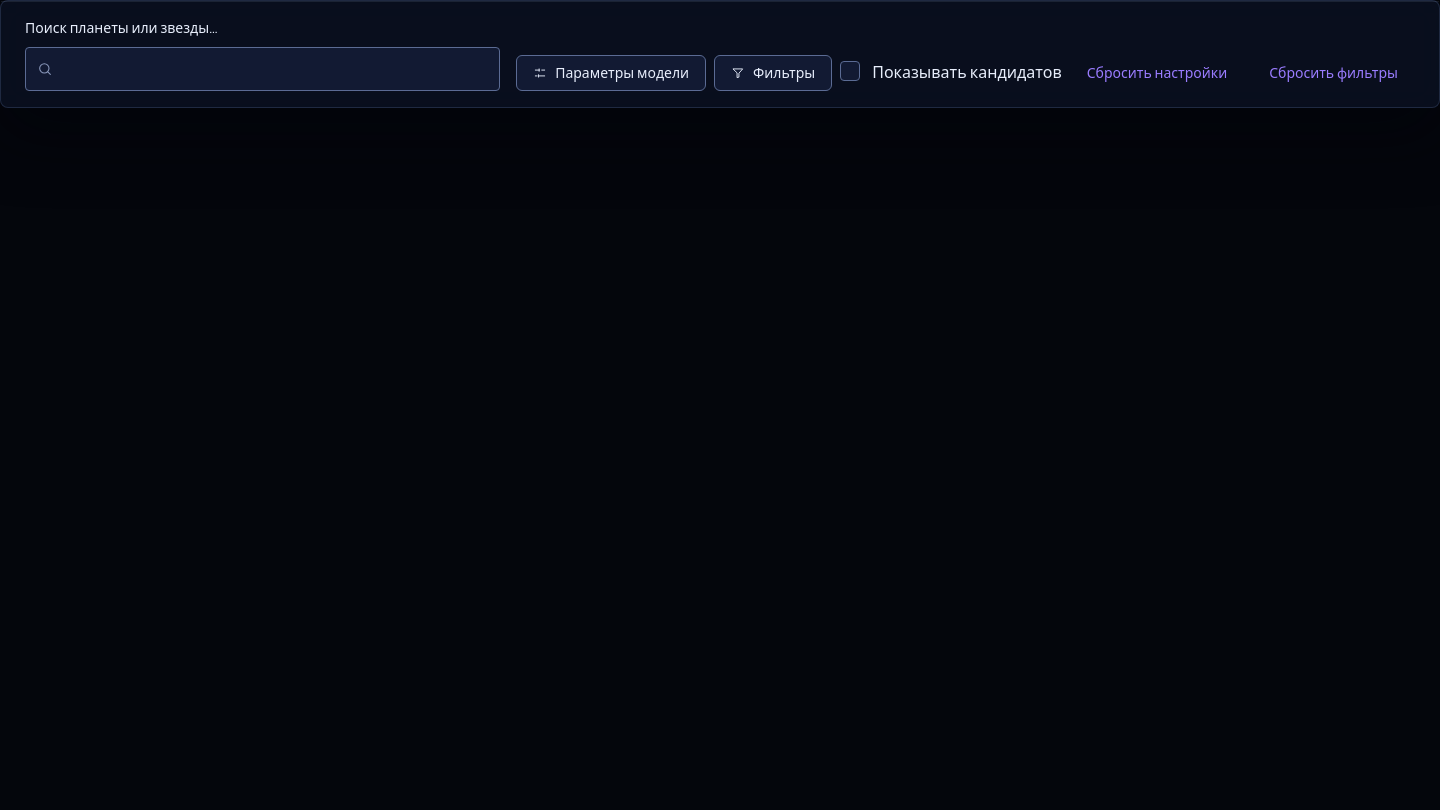
Test case: спектральные классы › выбор классов применяется вместе с диапазонами одним пересчётом
Later steps or results of the test are not shown.
Click the button "Фильтры": (773, 73) [714,55,832,91]
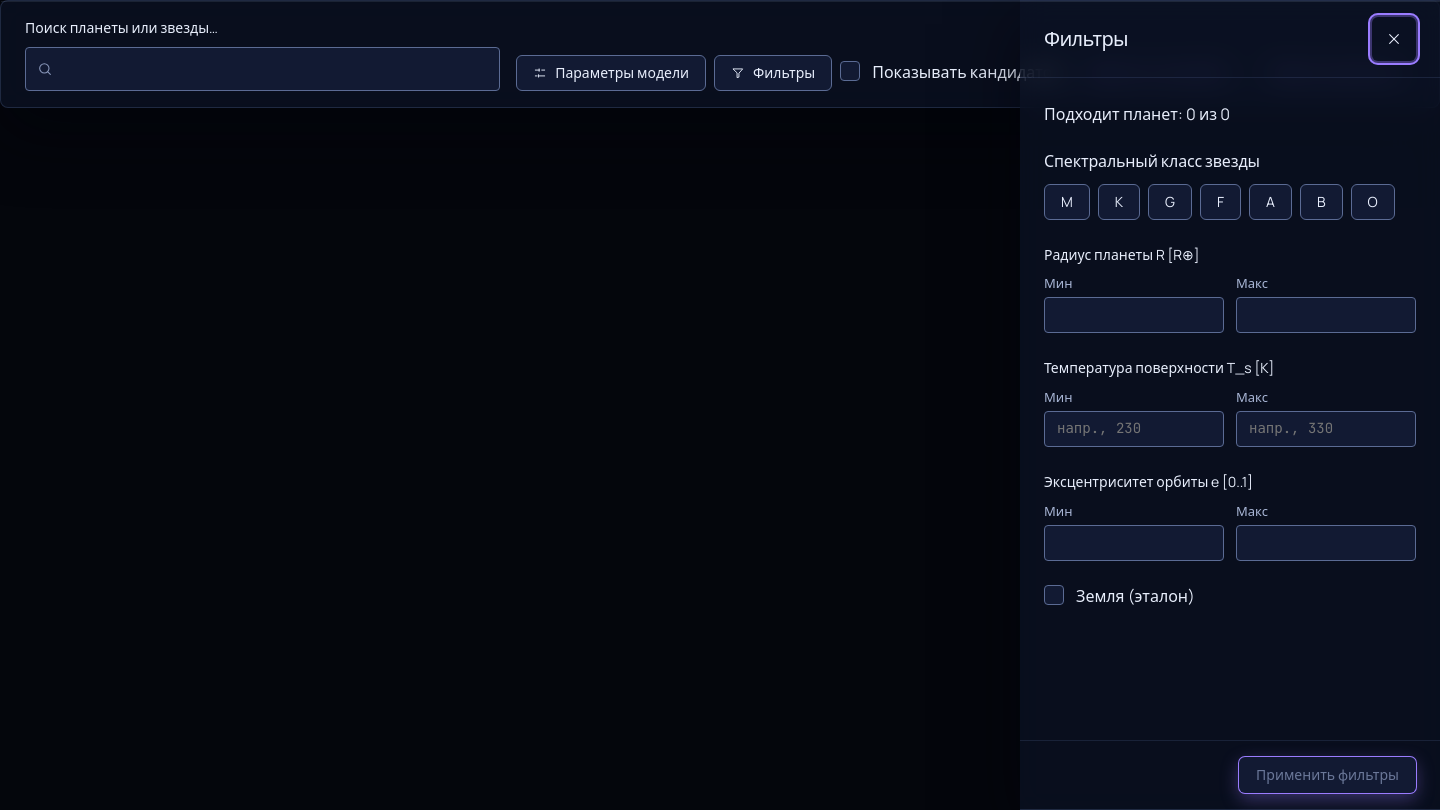
Click the button "G": (1170, 202) [1148,184,1192,220]
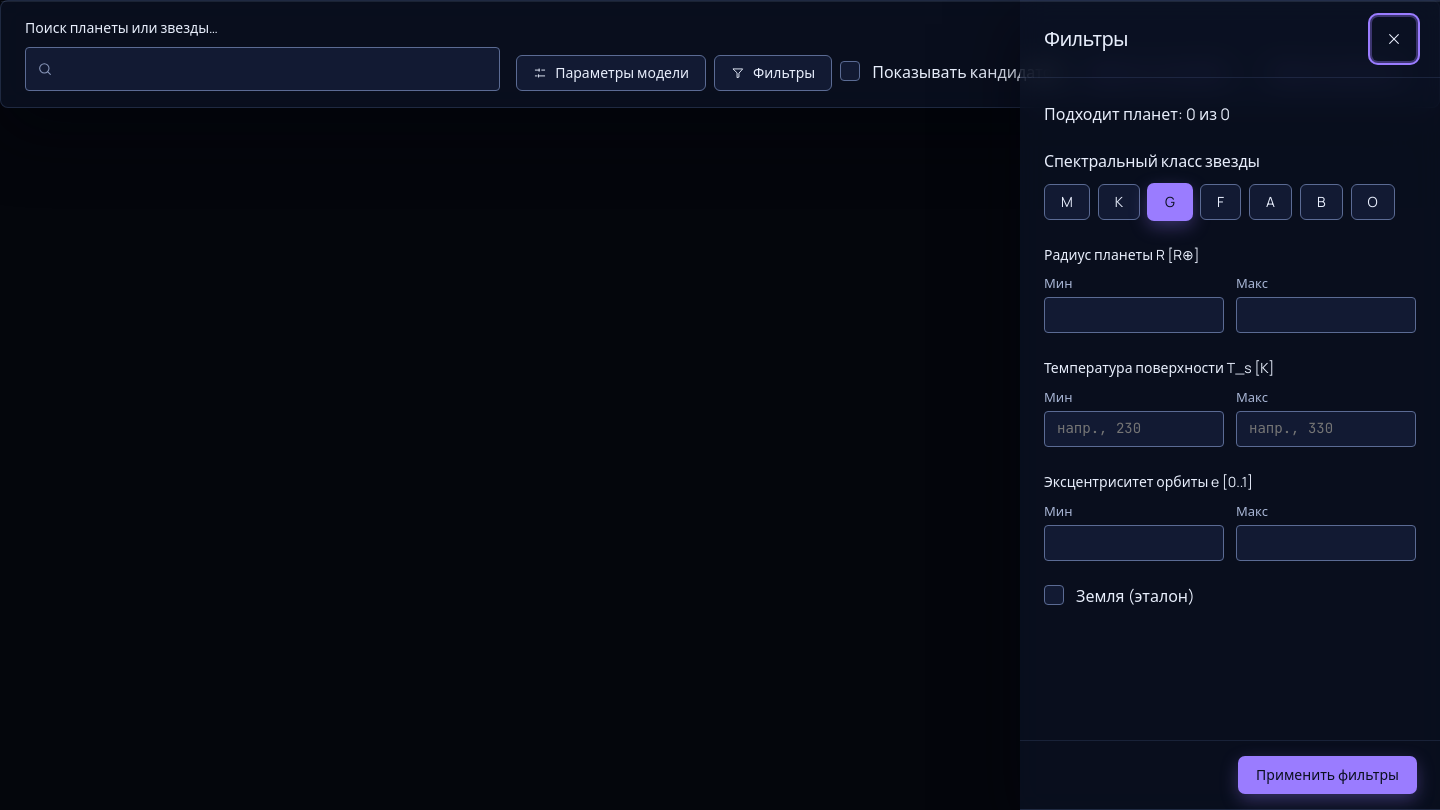
In the field labelled "Макс" below "Эксцентриситет орбиты e [0..1]": (1326, 543) [1236,525,1416,561], type "0.5"
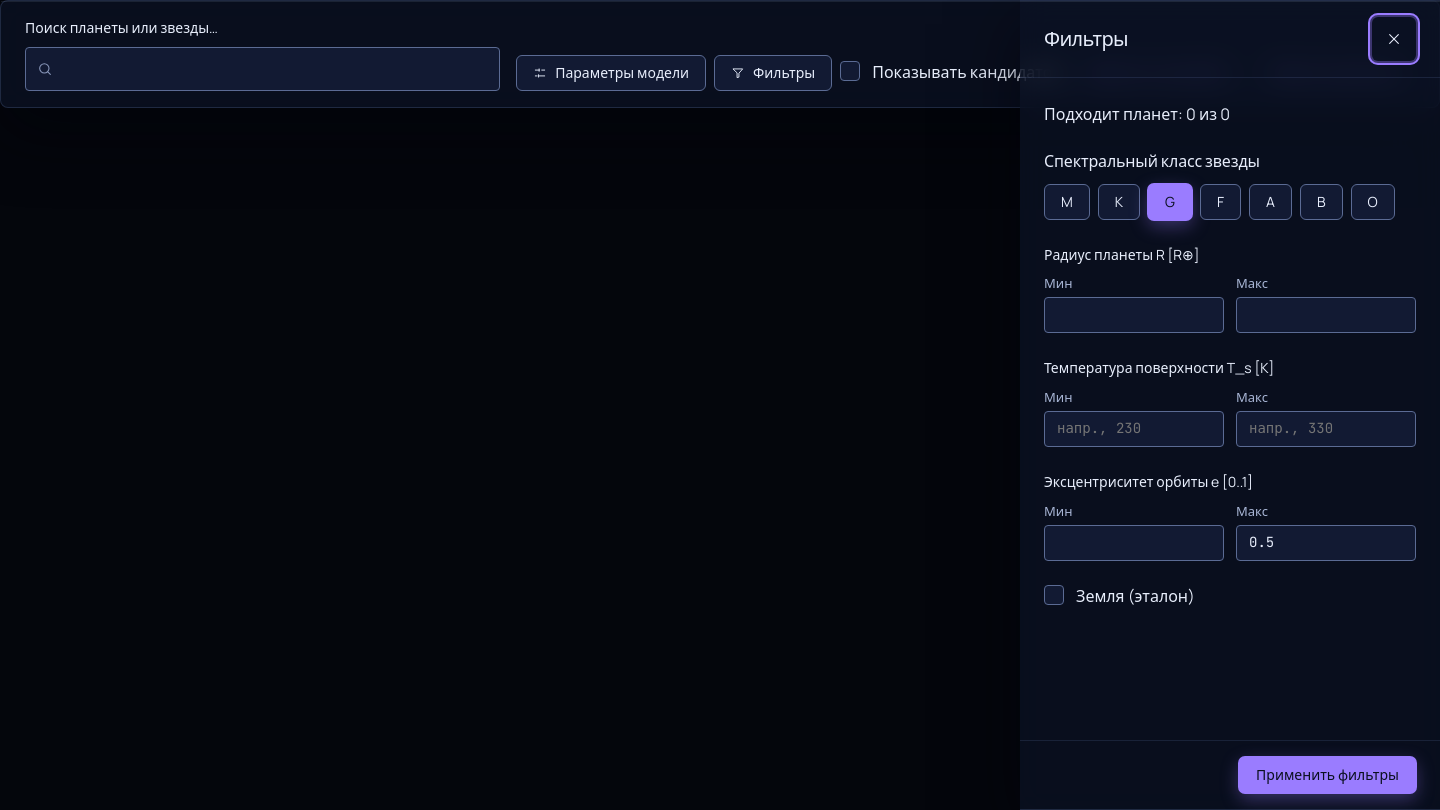
Result: the button "Применить фильтры" is enabled at [1239,757,1416,793]
